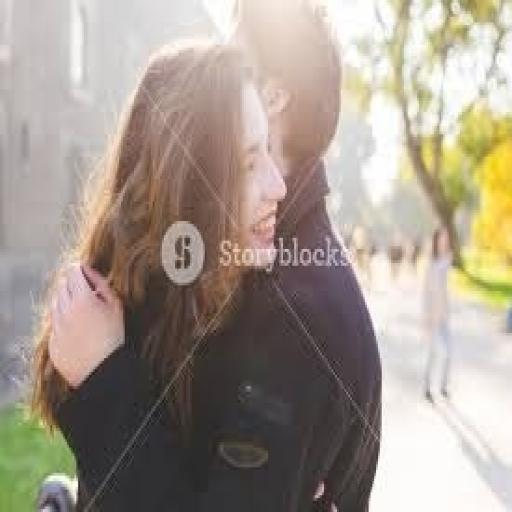hugging: (24, 3, 386, 509)
